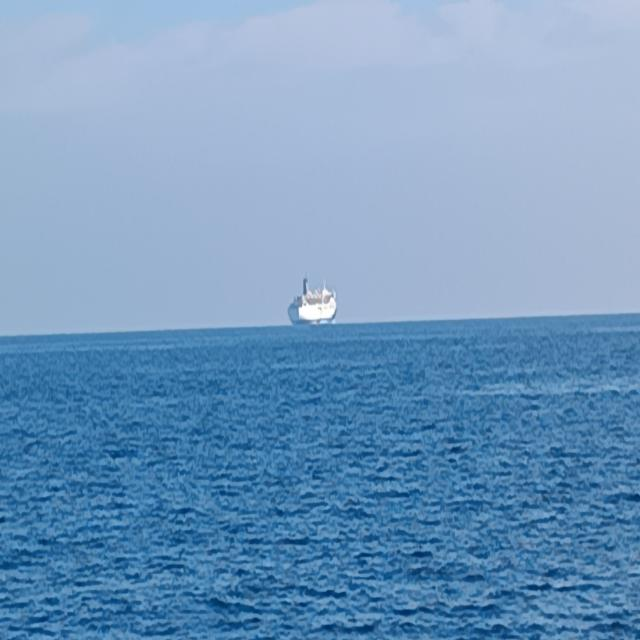PassengerShip: (254, 194, 363, 356)
